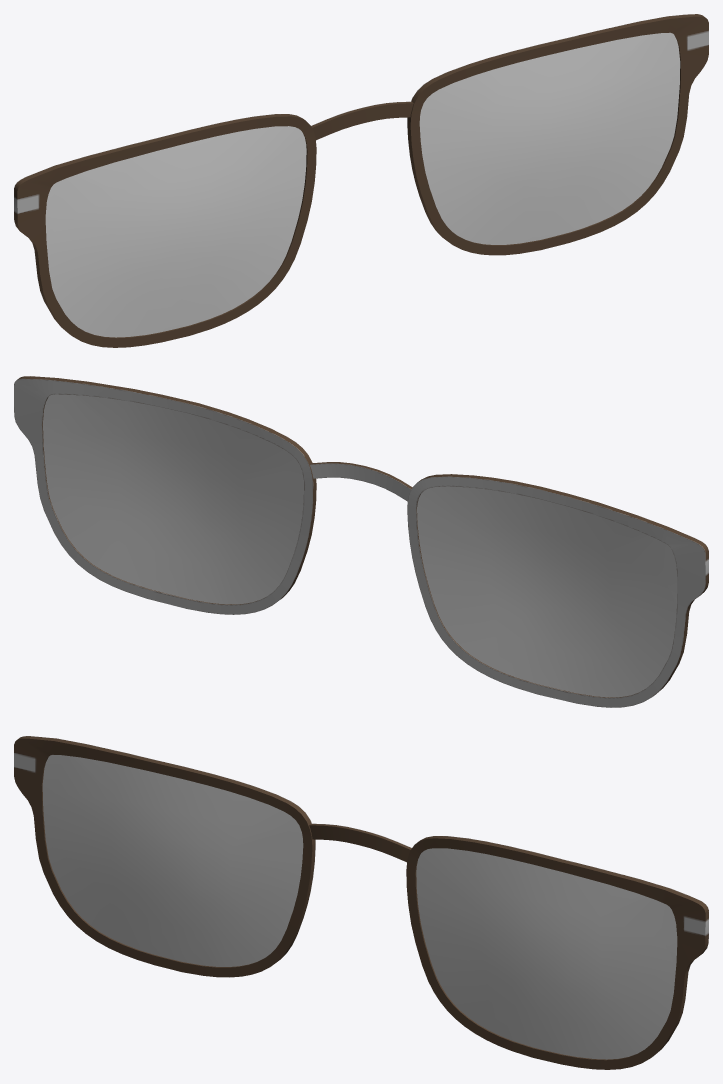
File: PRADA Glasses Optimized No Arms.fbx
The picture shows the model from 3 angles, top to bottom: view 1: azimuth 30°, elevation 25°; view 2: azimuth 150°, elevation 25°; view 3: azimuth 330°, elevation 25°; orthographic projection.
Visible parts, largest first — view 1: PRADA Glasses Optimized No Arms; view 2: PRADA Glasses Optimized No Arms; view 3: PRADA Glasses Optimized No Arms.
Boxes of the visible parts, <box> form: PRADA Glasses Optimized No Arms: <box>14,14,708,347</box>; PRADA Glasses Optimized No Arms: <box>14,376,708,707</box>; PRADA Glasses Optimized No Arms: <box>14,736,708,1069</box>.
Bounding box in the file's own units: 0.167 × 0.0471 × 0.00374.
